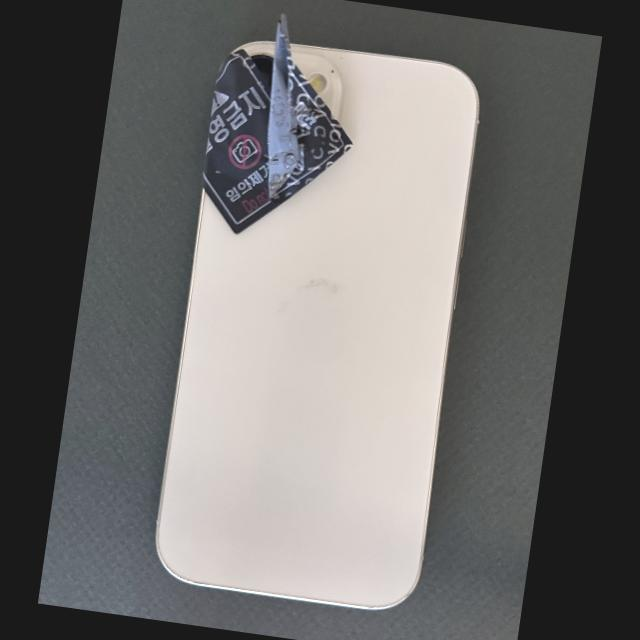lens: (249, 53, 273, 90)
phone: (155, 41, 480, 609)
sticker: (200, 49, 311, 235), (267, 14, 354, 205)
